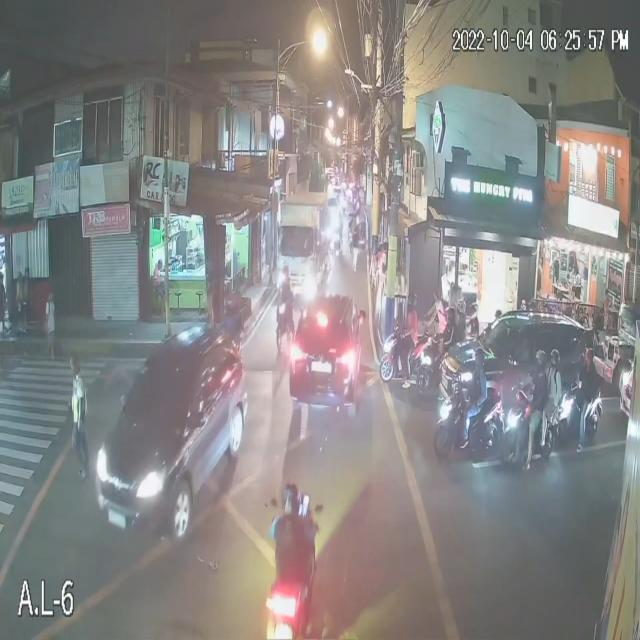Full-Faced: (278, 479, 300, 517), (532, 343, 547, 372), (406, 290, 422, 312), (474, 347, 486, 373), (280, 263, 292, 283)
Half-Faced: (445, 305, 458, 326), (550, 347, 562, 369)
